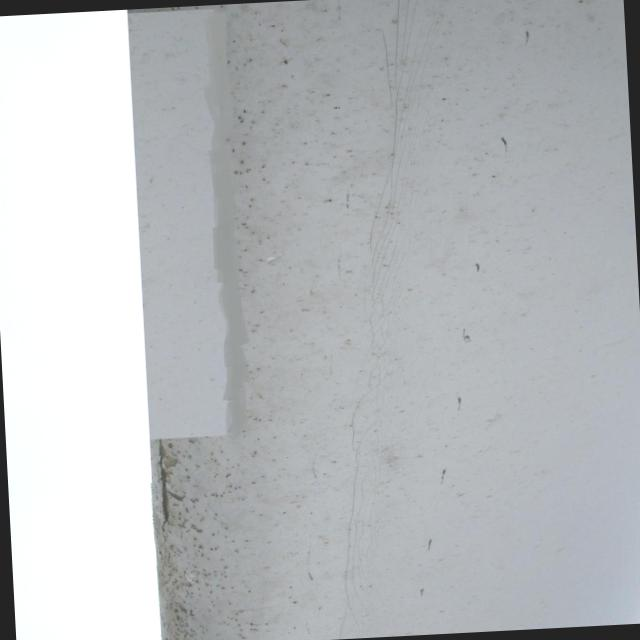crack: (152, 436, 178, 533)
